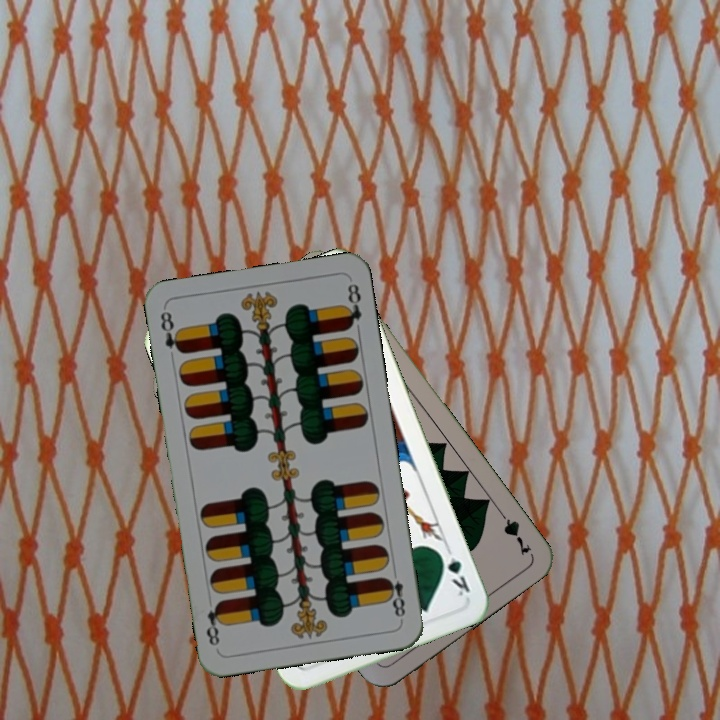E8: (381, 564, 408, 623), (156, 307, 186, 357)
G7: (493, 504, 534, 558)
GK: (435, 543, 473, 599)
